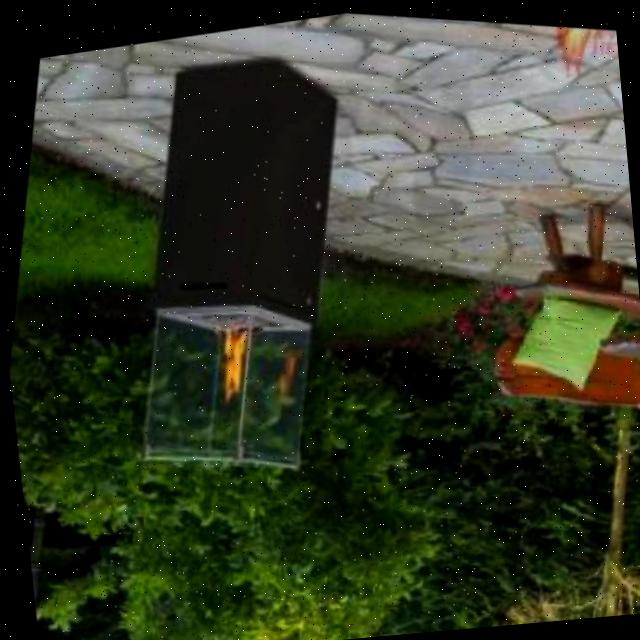fire: (194, 291, 274, 410)
